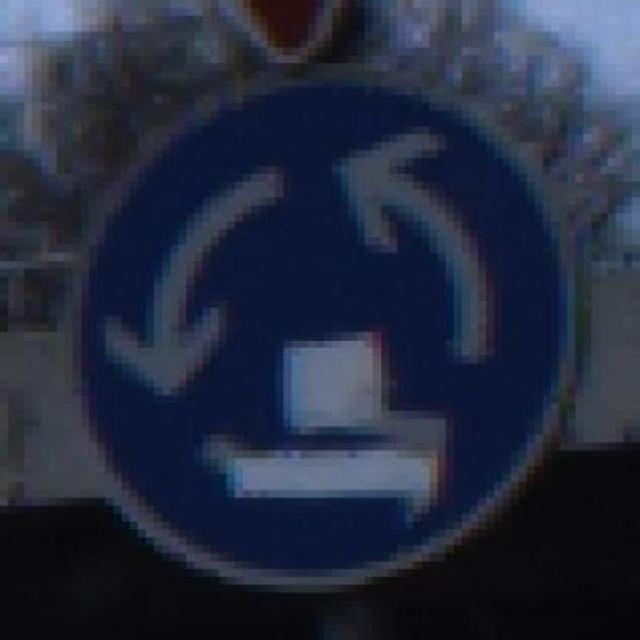Round-About: (72, 47, 600, 601)
